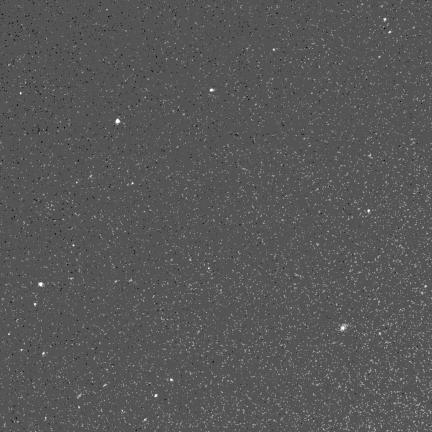blob: (154, 394, 159, 398), (116, 119, 120, 124), (38, 282, 43, 286), (424, 285, 428, 289), (210, 89, 215, 92), (34, 303, 37, 307), (379, 332, 382, 336), (389, 31, 392, 34), (171, 379, 174, 382), (368, 209, 370, 213), (384, 18, 386, 21)
